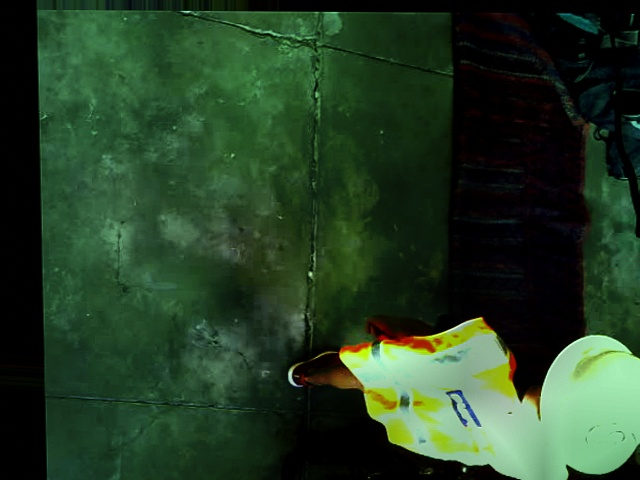eight: (582, 419, 634, 459)
